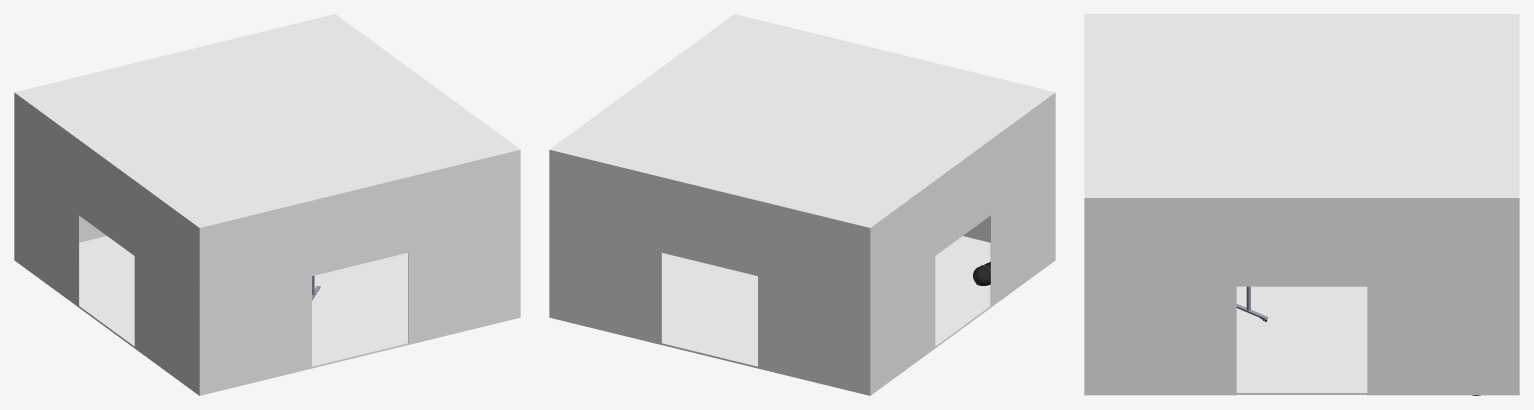
The model's file is Level1_Room3.glb.
3 views of the same model, side by side, from view 1: azimuth 30°, elevation 25°; view 2: azimuth 150°, elevation 25°; view 3: azimuth 270°, elevation 25° (orthographic). The views are drawn at different scales.
Visible parts, largest first — view 1: Cube copy copy copy (×3), Cube copy copy (×3), Cube, Cube copy; view 2: Cube copy copy copy (×2), Cube copy copy copy copy (×2), Cube copy copy (×2), Cube, Cube copy; view 3: Cube copy copy copy (×3), Cube copy copy, Cube.
Boxes of the visible parts, bbox=[...] form: Cube copy copy copy (×3): bbox=[15, 14, 520, 395]; Cube copy copy (×3): bbox=[14, 93, 520, 395]; Cube: bbox=[14, 236, 408, 395]; Cube copy: bbox=[14, 92, 199, 303]; Cube copy copy copy (×2): bbox=[549, 14, 1054, 303]; Cube copy copy copy copy (×2): bbox=[549, 150, 870, 395]; Cube copy copy (×2): bbox=[870, 93, 1055, 394]; Cube: bbox=[661, 236, 1055, 395]; Cube copy: bbox=[870, 92, 1055, 303]; Cube copy copy copy (×3): bbox=[1084, 14, 1519, 395]; Cube copy copy: bbox=[1084, 197, 1519, 286]; Cube: bbox=[1236, 286, 1367, 394].
Size of what is drawn, in the model's own units: 10 by 5.15 by 10.01.
18 materials, 4 textured.
